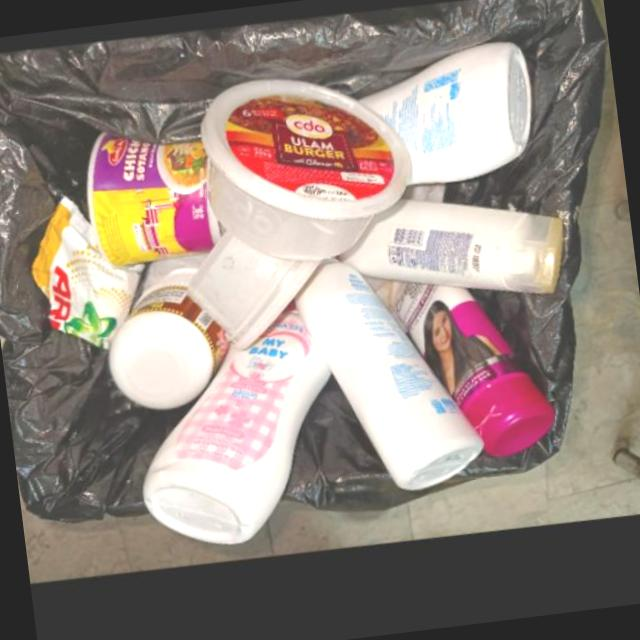chai_nhua: (139, 306, 330, 548), (292, 265, 482, 499), (392, 290, 554, 466), (358, 50, 531, 194), (332, 208, 564, 304)
goi_nhua_nho: (29, 196, 143, 351)
hop_nhua: (198, 83, 412, 267), (85, 134, 219, 272), (106, 258, 225, 413), (184, 235, 322, 354)
